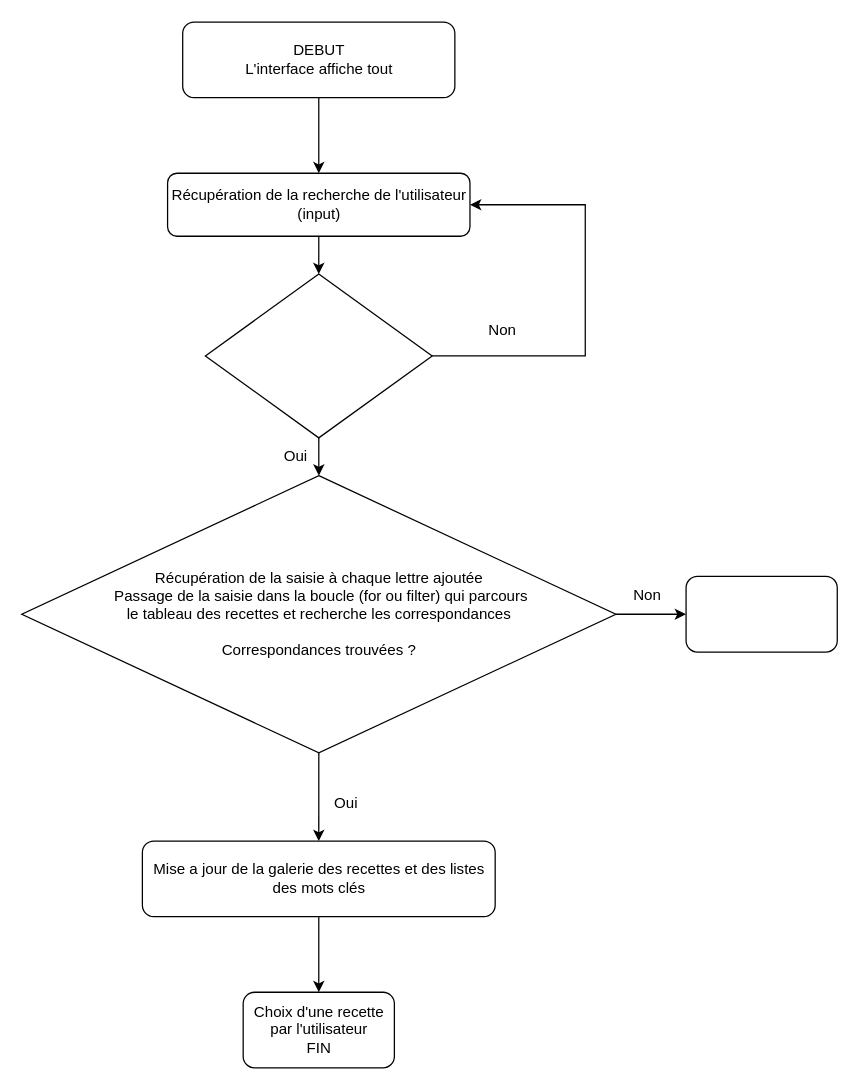
The diagram is 861 pixels wide and 1090 high, and some of its shapes have lost their labels. Here are the shapes that lost their labels. From the top down, the centre of each, then its label:
At point (318, 355): "Test de la saisie Plus de 2 caractères entrés ?".
At point (761, 613): "Message d'erreur".
